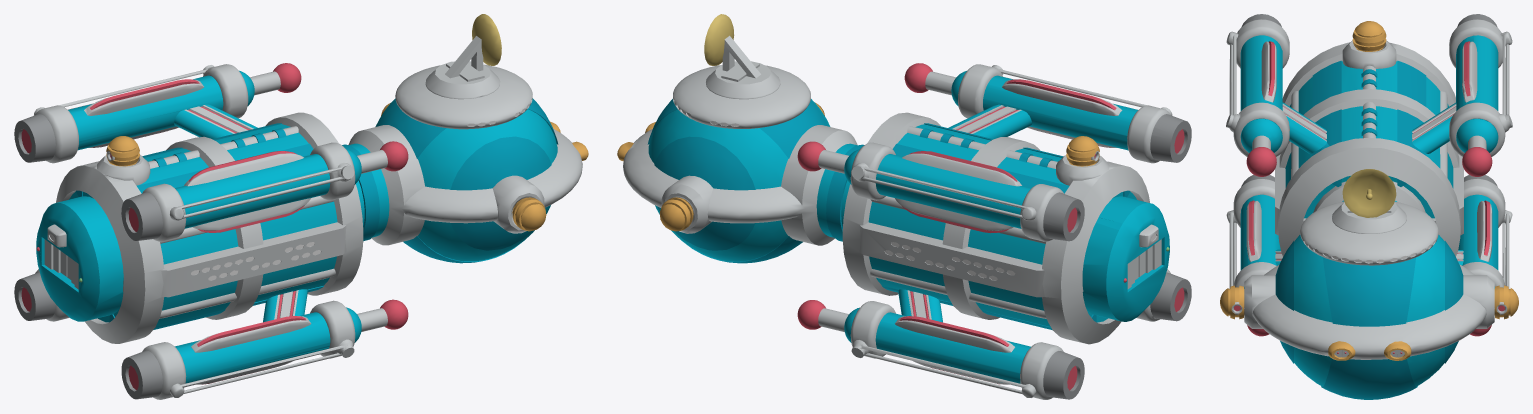
Rendered from ear-acamar.glb.
The picture shows the model from 3 angles, left to right: view 1: azimuth 30°, elevation 25°; view 2: azimuth 150°, elevation 25°; view 3: azimuth 270°, elevation 25°; orthographic projection.
Parts seen in each view (by area): view 1: Acamar current hull - authored COLOR_0 regions; view 2: Acamar current hull - authored COLOR_0 regions; view 3: Acamar current hull - authored COLOR_0 regions.
Boxes of the visible parts, box(x1,y1,x2,y2) form: Acamar current hull - authored COLOR_0 regions: box(14, 14, 588, 399); Acamar current hull - authored COLOR_0 regions: box(617, 14, 1191, 399); Acamar current hull - authored COLOR_0 regions: box(1220, 14, 1518, 399).
Bounding box in the file's own units: 6.32 × 2.94 × 3.14.
